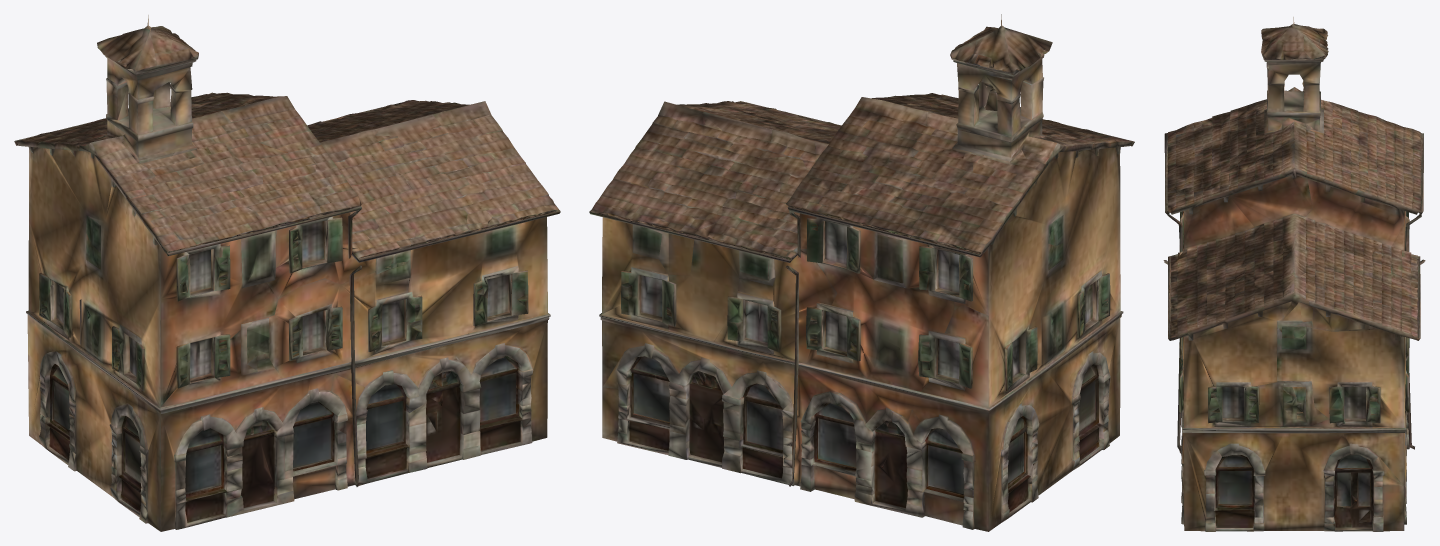
File: tuscan.glb
The picture shows the model from 3 angles, left to right: view 1: azimuth 30°, elevation 25°; view 2: azimuth 150°, elevation 25°; view 3: azimuth 270°, elevation 25°; orthographic projection. The views are drawn at different scales.
Size of the model in its own units: 1.72 by 1.9 by 1.18.
1 material, 1 textured.
